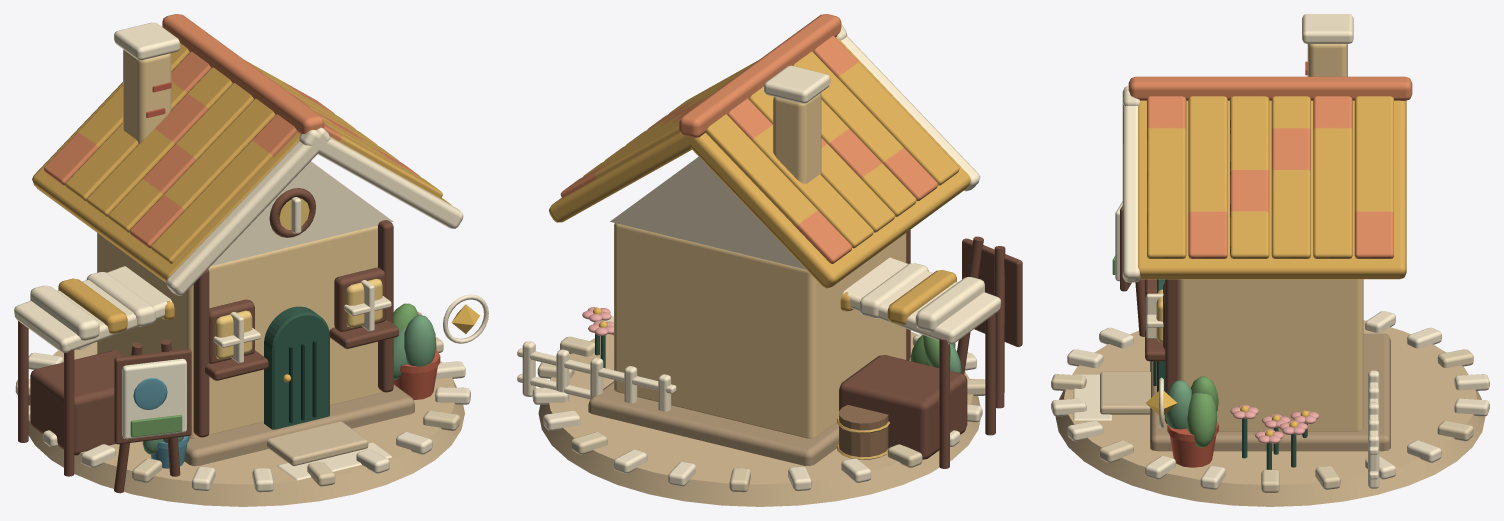
File: studio.glb
3 views of the same model, side by side, from view 1: azimuth 30°, elevation 25°; view 2: azimuth 150°, elevation 25°; view 3: azimuth 270°, elevation 25° (orthographic). The views are drawn at different scales.
Visible parts, largest first — view 1: building-studio, landmark-studio, treasure-studio; view 2: building-studio, landmark-studio, Blender_detail_RainBarrel; view 3: building-studio, landmark-studio, treasure-studio.
Part boxes in pixels (left/top/right/bottom): building-studio: left=14, top=14, right=463, bottom=493; landmark-studio: left=15, top=337, right=470, bottom=506; treasure-studio: left=443, top=294, right=488, bottom=343; building-studio: left=517, top=14, right=1022, bottom=468; landmark-studio: left=532, top=316, right=985, bottom=506; Blender_detail_RainBarrel: left=839, top=405, right=888, bottom=456; building-studio: left=1073, top=14, right=1412, bottom=488; landmark-studio: left=1051, top=311, right=1489, bottom=506; treasure-studio: left=1146, top=377, right=1177, bottom=428.
Size of the model in its own units: 1.6 by 1.39 by 1.53.
